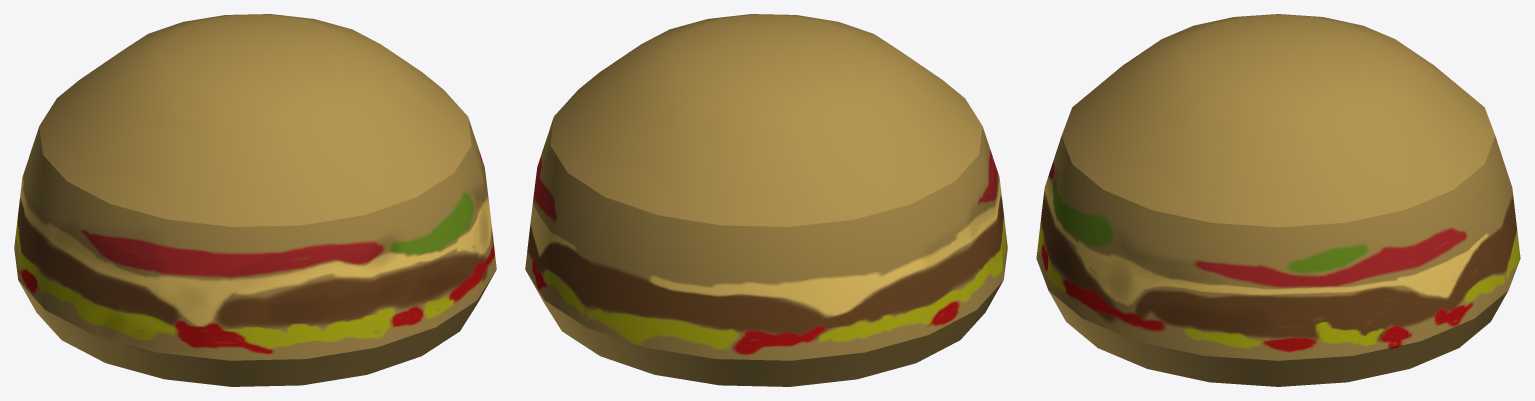
Rendered from SM_Burger.fbx.
The picture shows the model from 3 angles, left to right: view 1: azimuth 30°, elevation 25°; view 2: azimuth 150°, elevation 25°; view 3: azimuth 270°, elevation 25°; orthographic projection.
Visible parts, largest first — view 1: SM_Burger; view 2: SM_Burger; view 3: SM_Burger.
Part boxes in pixels (x1=…): SM_Burger: x1=14, y1=14, x2=496, y2=386; SM_Burger: x1=525, y1=14, x2=1007, y2=386; SM_Burger: x1=1036, y1=14, x2=1520, y2=386.
Size of the model in its own units: 20.72 by 20.72 by 12.3.
1 material, 1 textured.
